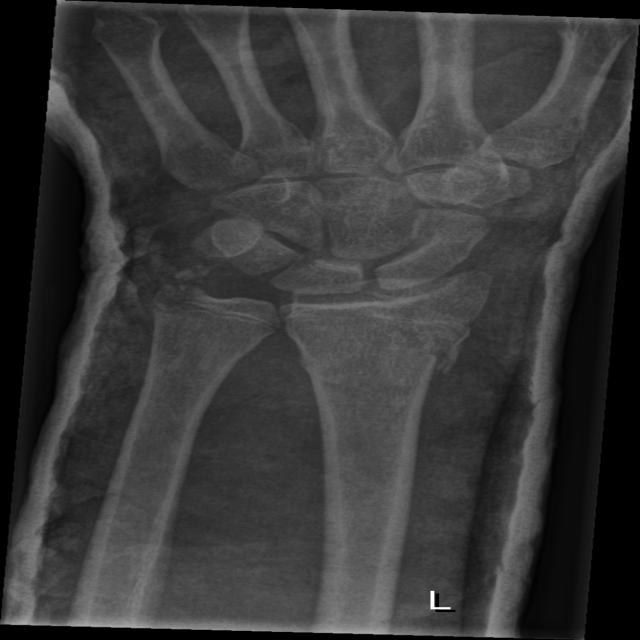radius fracture: (400, 295, 494, 409)
